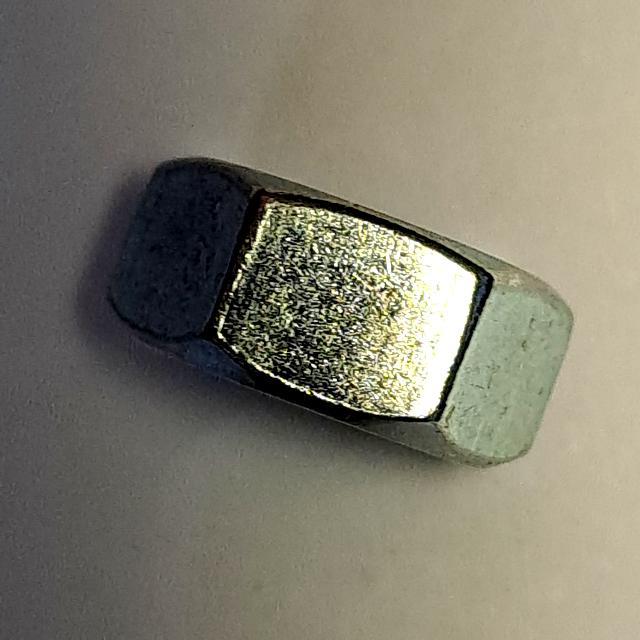Side_Excellent: (96, 145, 583, 481)
